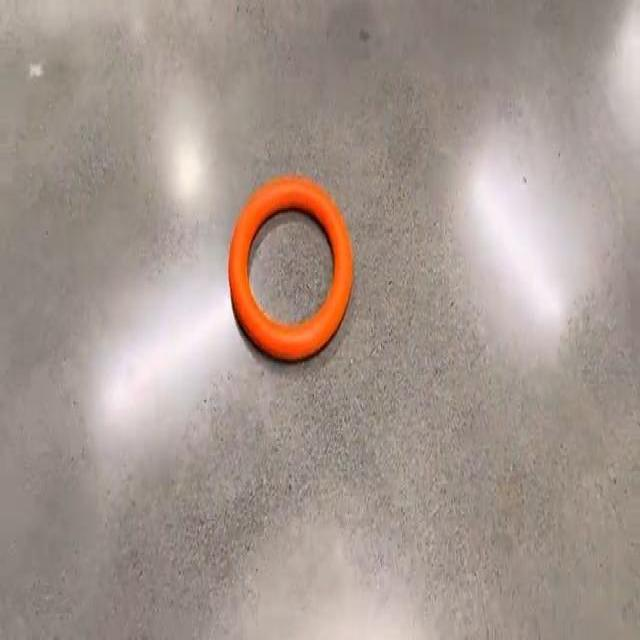note: (226, 171, 354, 367)
